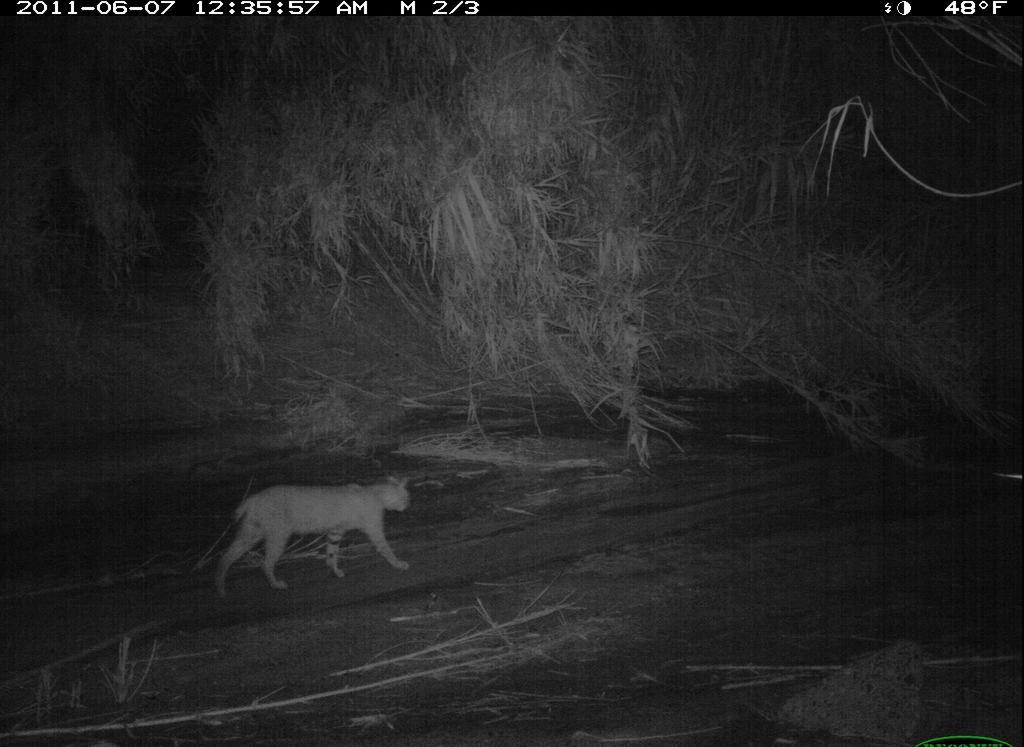bobcat: (190, 461, 434, 611)
